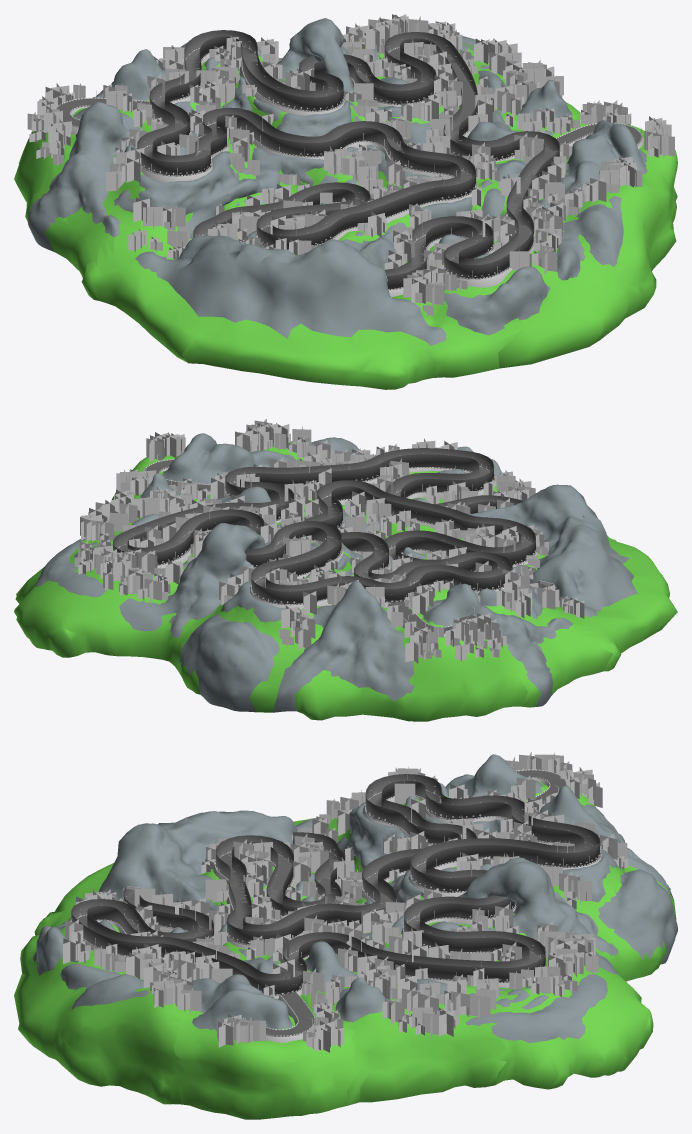
File: Track06_autumn.fbx
3 views of the same model, one above another, from view 1: azimuth 30°, elevation 25°; view 2: azimuth 150°, elevation 25°; view 3: azimuth 270°, elevation 25° (orthographic). The views are drawn at different scales.
Visible parts, largest first — view 1: Cliffs, Trees, Ground, Road_col, Road; view 2: Cliffs, Trees, Ground, Road_col, Road; view 3: Ground, Trees, Cliffs, Road_col, Road.
Part boxes in pixels (x1,y1,x2,y2): Cliffs: (27, 18, 647, 345); Trees: (27, 14, 674, 316); Ground: (14, 43, 677, 389); Road_col: (137, 30, 559, 289); Road: (55, 38, 643, 297); Cliffs: (34, 433, 637, 712); Trees: (74, 418, 584, 663); Ground: (14, 442, 677, 721); Road_col: (113, 448, 552, 604); Road: (113, 451, 537, 637); Ground: (14, 781, 675, 1119); Trees: (63, 752, 628, 1052); Cliffs: (33, 754, 677, 1042); Road_col: (71, 774, 599, 995); Road: (70, 765, 601, 1042).
Size of the model in its own units: 442 by 124 by 442.
